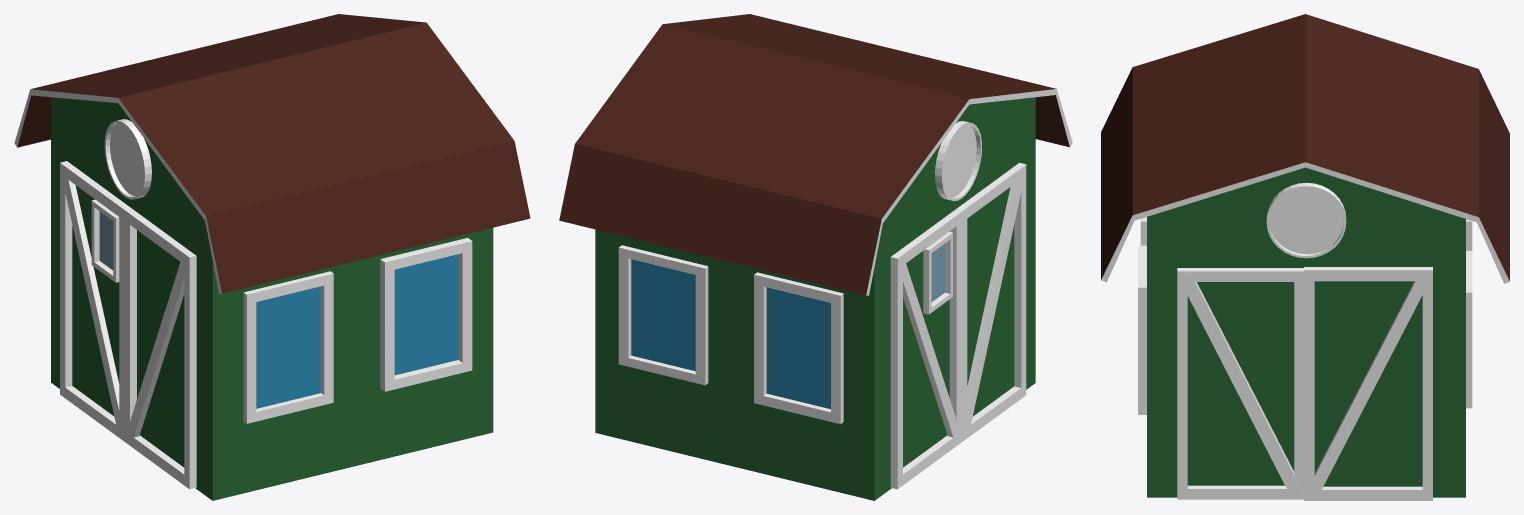
File: PlantSwapBarn.glb
3 views of the same model, side by side, from view 1: azimuth 30°, elevation 25°; view 2: azimuth 150°, elevation 25°; view 3: azimuth 270°, elevation 25° (orthographic).
Parts seen in each view (by area): view 1: Roof, BasicBarnCube, WindoewsLeftBack, WindoewsLeftFront, DoorFrameRight, DoorFrameLeft, DoorBeamLeft, PlantLogo, DoorBeemRight, DoorWindows; view 2: Roof, BasicBarnCube, WindowsRightFront, WindowsRightBack, DoorFrameLeft, DoorFrameRight, DoorBeemRight, PlantLogo, DoorBeamLeft, DoorWindows; view 3: BasicBarnCube, Roof, DoorFrameBackLeft, DoorFrameBackRight, PlantLogoBack, DoorBeamBackRight, DoorBeamBackLeft, WindoewsLeftBack, WindowsRightBack.
Part boxes in pixels (x1,y1,x2,y2): Roof: (14, 14, 530, 293); BasicBarnCube: (51, 93, 493, 500); WindoewsLeftBack: (380, 238, 472, 391); WindoewsLeftFront: (243, 271, 333, 423); DoorFrameRight: (124, 208, 196, 489); DoorFrameLeft: (60, 161, 131, 441); DoorBeamLeft: (60, 168, 122, 435); PlantLogo: (104, 119, 151, 199); DoorBeemRight: (130, 254, 188, 437); DoorWindows: (91, 199, 119, 282); Roof: (559, 14, 1072, 295); BasicBarnCube: (595, 96, 1035, 500); WindowsRightFront: (754, 272, 843, 424); WindowsRightBack: (618, 245, 708, 385); DoorFrameLeft: (890, 210, 961, 489); DoorFrameRight: (955, 162, 1026, 441); DoorBeemRight: (962, 170, 1025, 436); PlantLogo: (935, 121, 981, 201); DoorBeamLeft: (897, 255, 956, 444); DoorWindows: (923, 231, 952, 314); BasicBarnCube: (1147, 20, 1465, 497); Roof: (1101, 14, 1509, 283); DoorFrameBackLeft: (1304, 267, 1432, 500); DoorFrameBackRight: (1177, 268, 1303, 499); PlantLogoBack: (1266, 182, 1346, 258); DoorBeamBackRight: (1178, 272, 1303, 499); DoorBeamBackLeft: (1314, 281, 1422, 489); WindoewsLeftBack: (1138, 245, 1146, 414); WindowsRightBack: (1466, 251, 1472, 408).
Size of the model in its own units: 2.2 by 2.37 by 2.57.
Materials: 4 (2 with a texture image).
